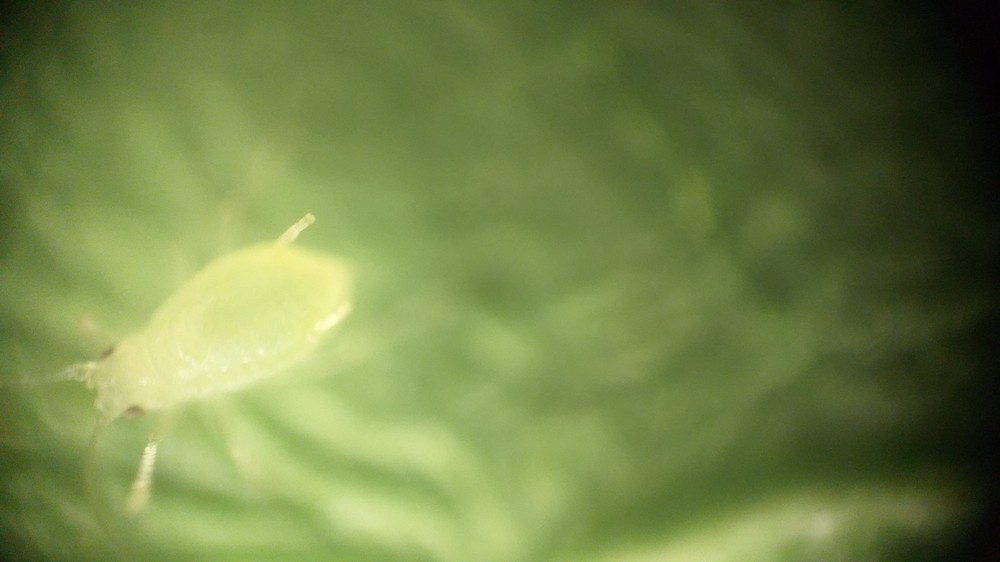Pulgon: (6, 162, 427, 530)
